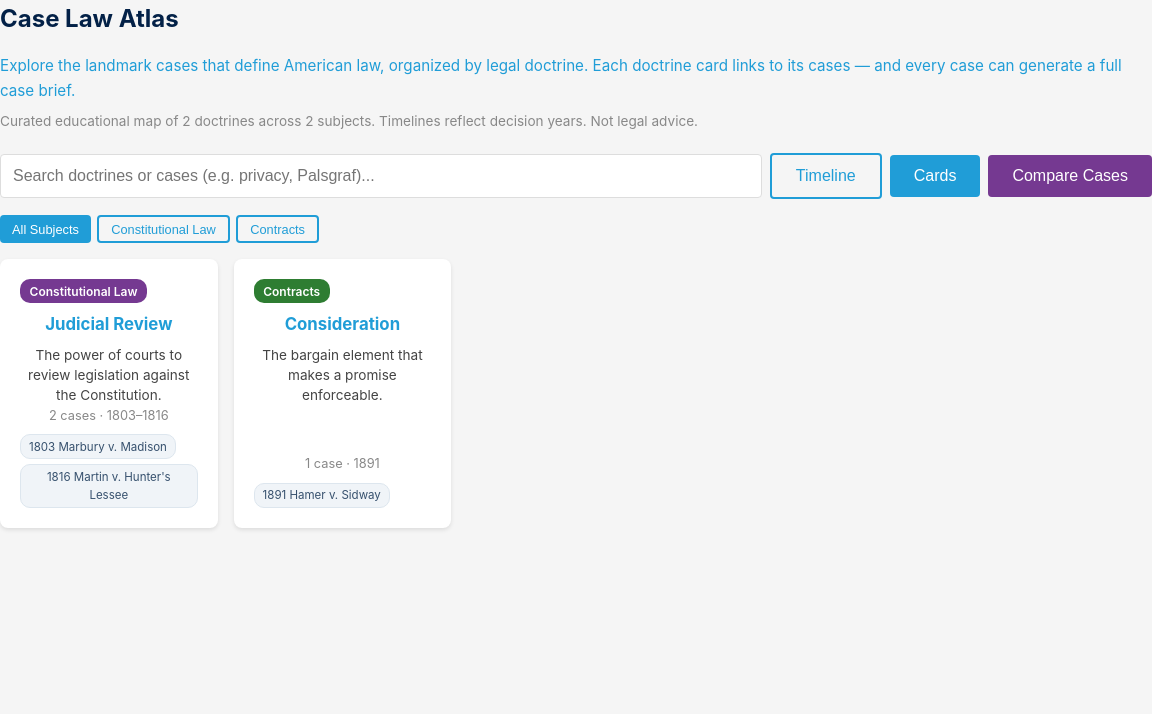
Test: DoctrineExplorerView › opens a doctrine detail with case holding on card click
Click the heading "Judicial Review".
click(109, 324)  # box [45,314,172,334]
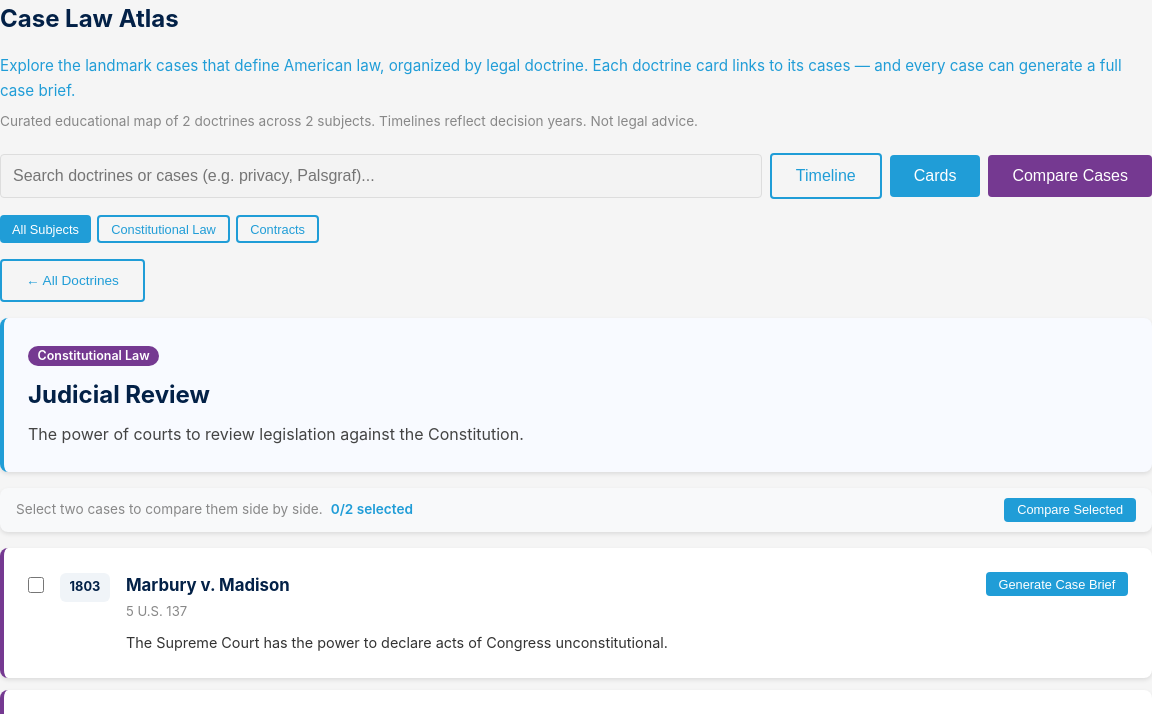
Expected: the text "power to declare acts of Congress unconstitutional" is shown, [126,634,668,651]
Expected: the heading "Marbury v. Madison" is shown, [126,572,290,599]
Expected: the text "5 U.S. 137" is shown, [126,603,187,619]
